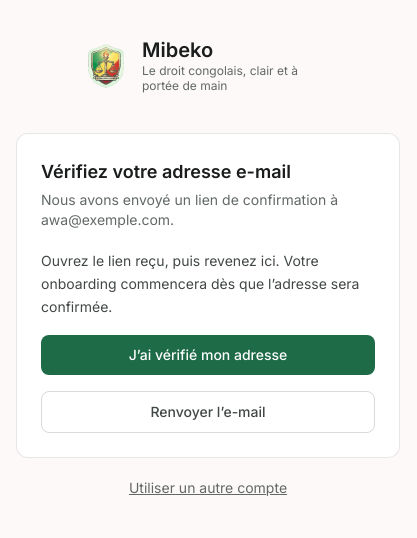
Test: VerifyEmailPage › affiche l’adresse et permet de renvoyer le lien
Check: the text "Nous avons envoyé un lien de confirmation à awa@exemple.com." is shown, box [41,190,375,230]
What coordinates should you click on to do the following:
click the button "Renvoyer l’e-mail"
I would click on:
 (208, 412)
Its box is [41,391,375,433].
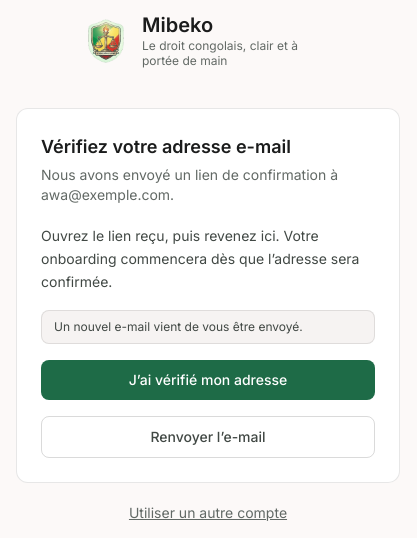
Check: the message reads "Un nouvel e-mail vient de vous être envoyé.", box [54,319,303,334]
